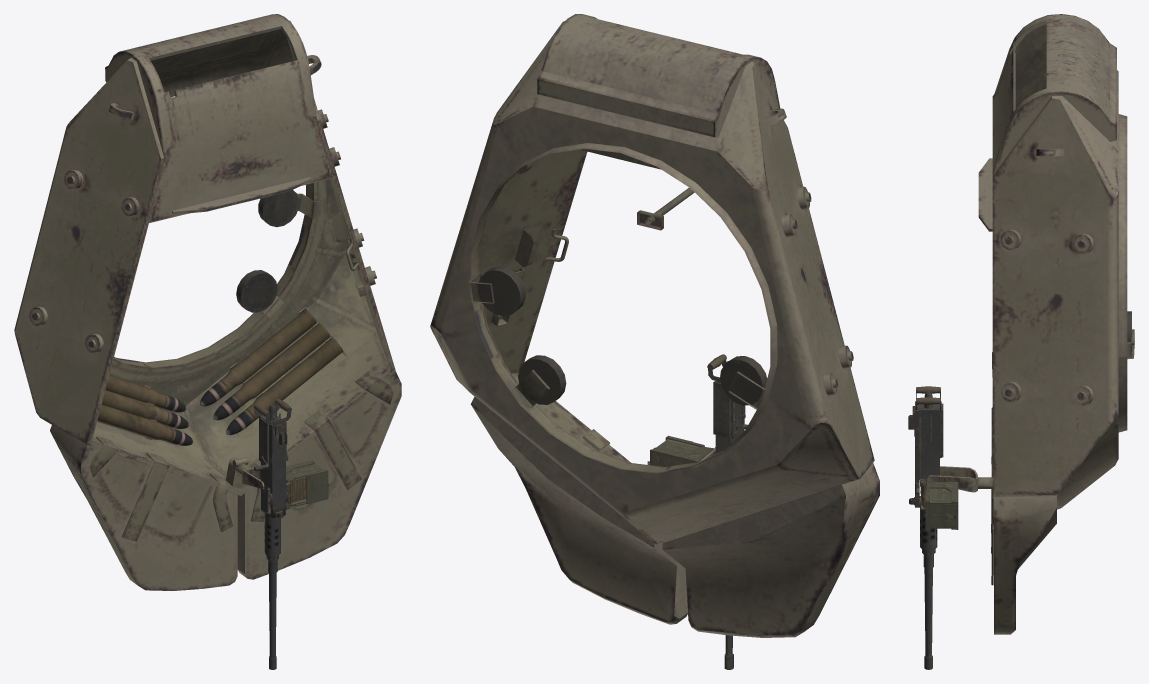
File: Turret_02.glb
3 views of the same model, side by side, from view 1: azimuth 30°, elevation 25°; view 2: azimuth 150°, elevation 25°; view 3: azimuth 270°, elevation 25° (orthographic). The views are drawn at different scales.
Parts seen in each view (by area): view 1: set_0_group_0; view 2: set_0_group_0; view 3: set_0_group_0.
Boxes of the visible parts, x1=… form: set_0_group_0: x1=14, y1=14, x2=401, y2=669; set_0_group_0: x1=430, y1=14, x2=879, y2=669; set_0_group_0: x1=908, y1=14, x2=1134, y2=669.
Bounding box in the file's own units: 2.26 × 3.67 × 1.23.
1 material, 1 textured.
